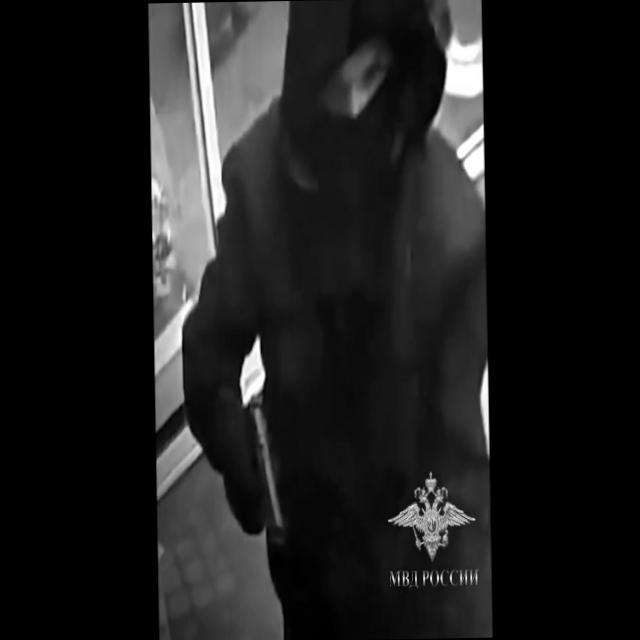gun: (235, 397, 286, 556)
person with a gun: (172, 3, 489, 632)
